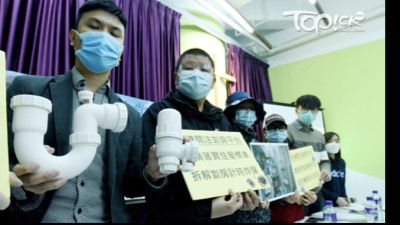with_mask: (77, 14, 125, 71), (177, 58, 215, 99), (235, 104, 258, 129), (298, 104, 318, 126), (266, 124, 287, 142), (326, 136, 340, 155)
